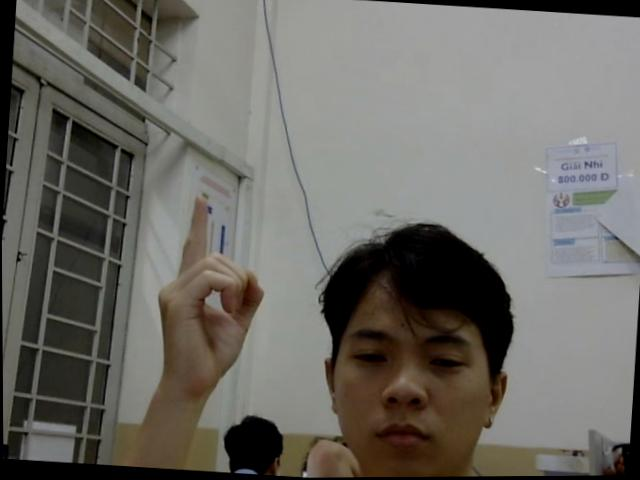D: (146, 192, 269, 397)
